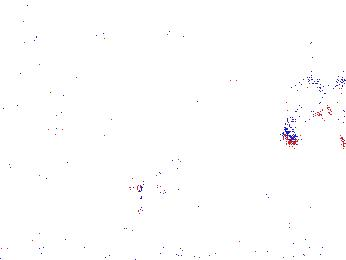flame jellyfish: (274, 172, 346, 227), (280, 69, 328, 145), (129, 155, 190, 204)
